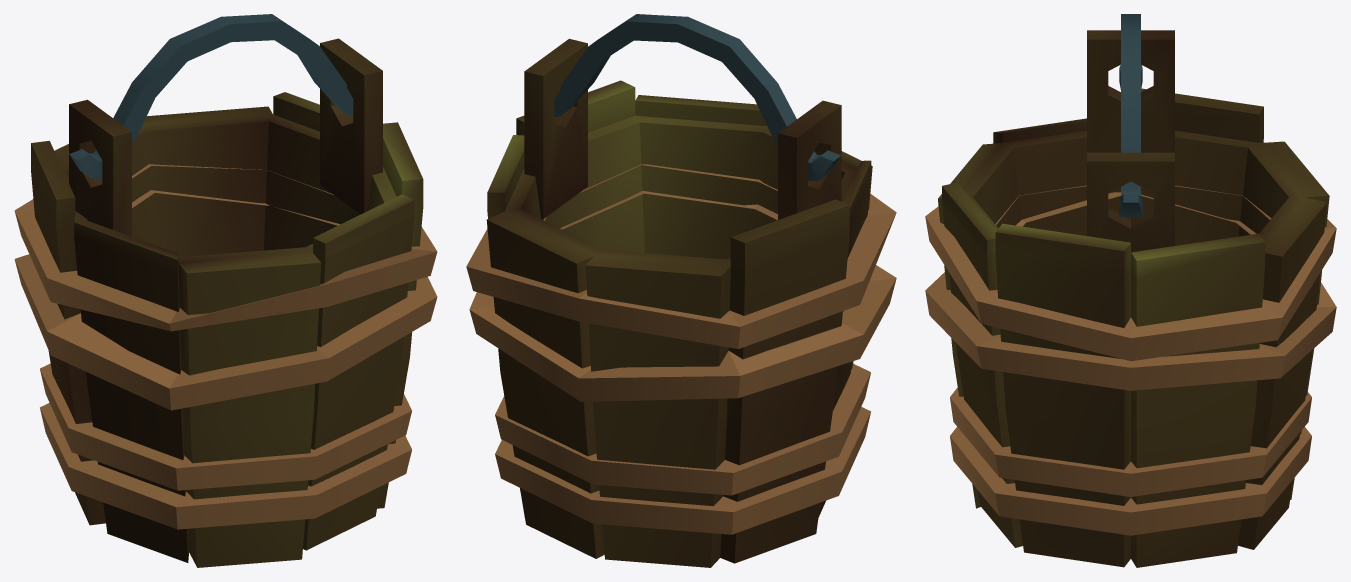
File: Bucket_Stone.fbx
The picture shows the model from 3 angles, left to right: view 1: azimuth 30°, elevation 25°; view 2: azimuth 150°, elevation 25°; view 3: azimuth 270°, elevation 25°; orthographic projection.
Visible parts, largest first — view 1: Bucket_Stone; view 2: Bucket_Stone; view 3: Bucket_Stone.
Part boxes in pixels (box(x1,y1,x2,y2)): Bucket_Stone: box(14, 14, 437, 567); Bucket_Stone: box(466, 14, 896, 567); Bucket_Stone: box(925, 14, 1336, 567).
Size of the model in its own units: 72.2 by 92.97 by 72.2.
